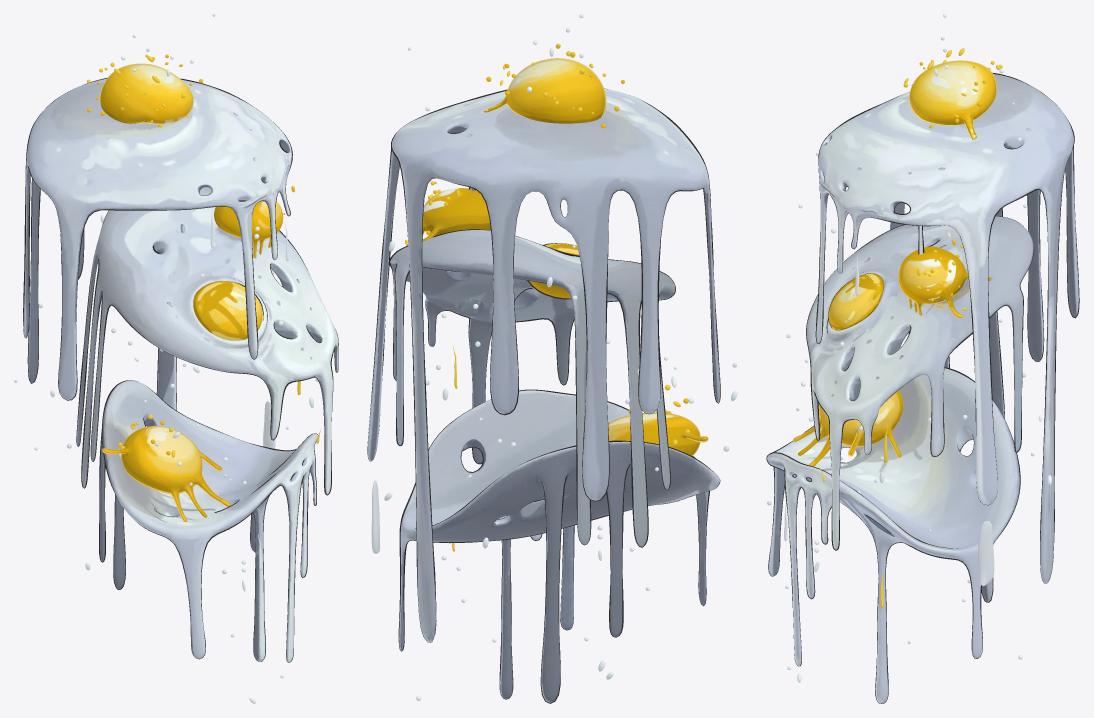
The picture shows the model from 3 angles, left to right: view 1: azimuth 30°, elevation 25°; view 2: azimuth 150°, elevation 25°; view 3: azimuth 270°, elevation 25°; orthographic projection. The views are drawn at different scales.
Visible parts, largest first — view 1: white 1_0, white 2_2, white 3_3, yolk_1, yolk.003_6, yolk.001_4, yolk.002_5; view 2: white 1_0, white 3_3, white 2_2, yolk.003_6, yolk.002_5, yolk_1, yolk.001_4; view 3: white 1_0, white 3_3, white 2_2, yolk.003_6, yolk.002_5, yolk_1, yolk.001_4, white 1.001_7.
Boxes of the visible parts, left/top/right/bottom form: white 1_0: left=23, top=78, right=292, bottom=410; white 2_2: left=76, top=187, right=338, bottom=495; white 3_3: left=99, top=380, right=318, bottom=662; yolk_1: left=102, top=426, right=230, bottom=522; yolk.003_6: left=99, top=63, right=193, bottom=124; yolk.001_4: left=193, top=281, right=263, bottom=340; yolk.002_5: left=214, top=201, right=283, bottom=258; white 1_0: left=367, top=88, right=720, bottom=642; white 3_3: left=398, top=389, right=720, bottom=703; white 2_2: left=389, top=229, right=675, bottom=547; yolk.003_6: left=483, top=58, right=606, bottom=123; yolk.002_5: left=406, top=188, right=490, bottom=245; yolk_1: left=608, top=412, right=708, bottom=456; yolk.001_4: left=527, top=243, right=579, bottom=299; white 1_0: left=815, top=73, right=1079, bottom=583; white 3_3: left=766, top=367, right=1020, bottom=703; white 2_2: left=806, top=216, right=1033, bottom=550; yolk.003_6: left=909, top=60, right=997, bottom=139; yolk.002_5: left=898, top=246, right=992, bottom=317; yolk_1: left=793, top=390, right=903, bottom=466; yolk.001_4: left=828, top=273, right=884, bottom=330; white 1.001_7: left=978, top=521, right=994, bottom=586.
Bounding box in the file's own units: 2.61 × 5.7 × 2.51.
5 materials, 2 textured.
